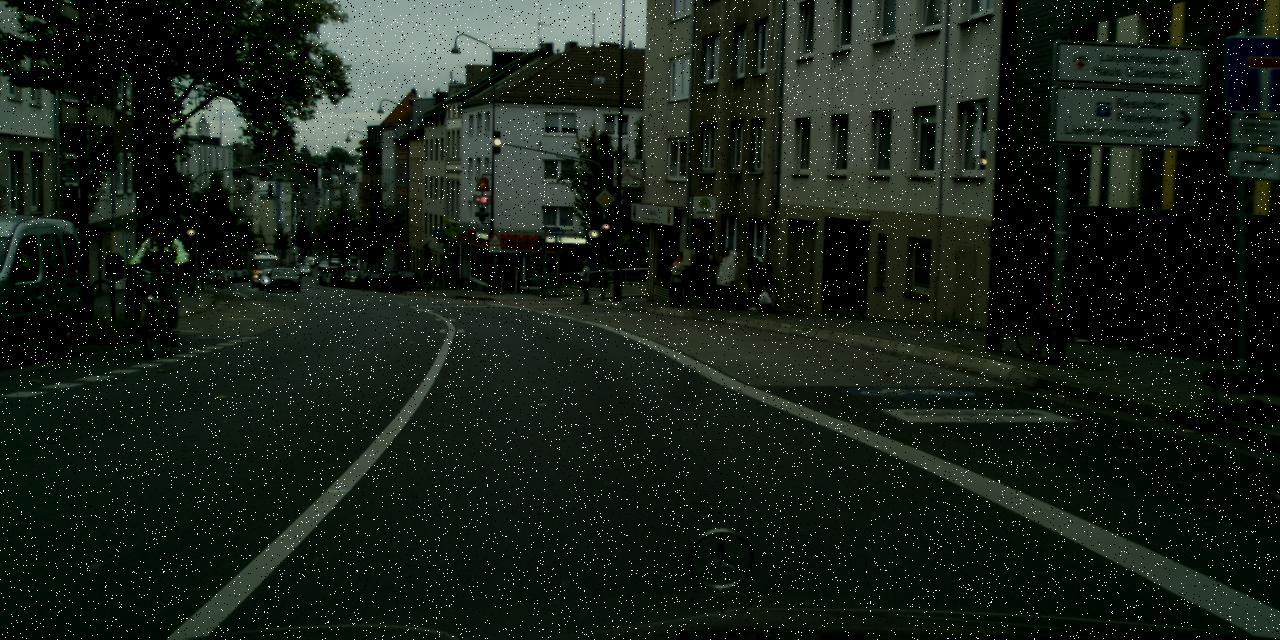ped: (137, 218, 185, 336), (714, 248, 740, 310), (754, 254, 777, 312), (710, 253, 732, 307), (667, 252, 689, 306), (699, 254, 720, 306), (744, 257, 764, 309), (577, 259, 593, 300), (432, 264, 442, 289), (423, 266, 432, 288)
